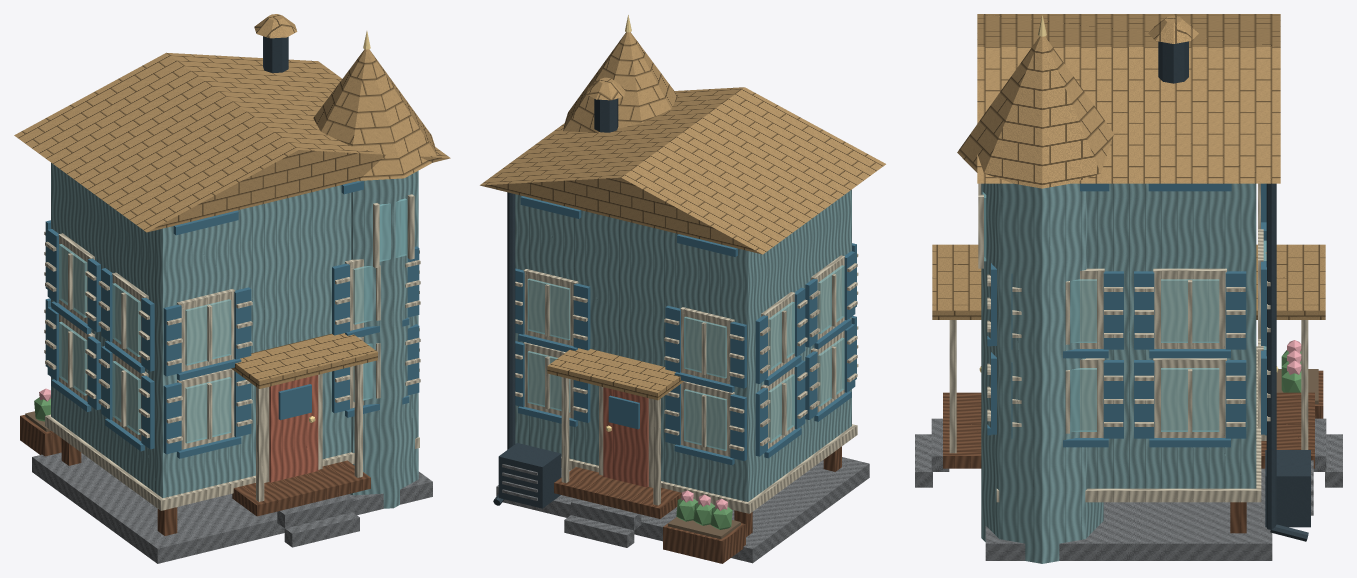
The model's file is house_beach_lv3_tower.glb.
The picture shows the model from 3 angles, left to right: view 1: azimuth 30°, elevation 25°; view 2: azimuth 150°, elevation 25°; view 3: azimuth 270°, elevation 25°; orthographic projection. The views are drawn at different scales.
Visible parts, largest first — view 1: gable_roof, walls, tower, foundation, tower_roof, front_porch_canopy, front_door, front_deck, front_window_frame.002, front_window_frame, floor_trim, front_window_glass (+41 smaller); view 2: walls, gable_roof, foundation, tower_roof, back_porch_canopy, back_door, back_deck, back_window_frame.002, back_ac_unit, back_window_frame.003, back_window_frame, floor_trim (+43 smaller); view 3: gable_roof, tower, walls, tower_roof, foundation, right_window_frame.003, right_window_frame.001, back_porch_canopy, front_porch_canopy, back_downspout, right_window_glass.001, right_window_glass.003 (+26 smaller).
Part boxes in pixels (bbox=[...]): gable_roof: bbox=[14, 52, 450, 232]; walls: bbox=[51, 163, 351, 498]; tower: bbox=[349, 170, 418, 508]; foundation: bbox=[32, 452, 432, 563]; tower_roof: bbox=[313, 49, 436, 180]; front_porch_canopy: bbox=[231, 333, 377, 388]; front_door: bbox=[269, 375, 318, 482]; front_deck: bbox=[232, 460, 370, 516]; front_window_frame.002: bbox=[177, 289, 235, 371]; front_window_frame: bbox=[177, 368, 234, 449]; floor_trim: bbox=[45, 414, 419, 510]; front_window_glass: bbox=[185, 377, 231, 443]; walls: bbox=[515, 189, 851, 501]; gable_roof: bbox=[480, 87, 885, 254]; foundation: bbox=[496, 457, 869, 563]; tower_roof: bbox=[563, 32, 678, 132]; back_porch_canopy: bbox=[547, 348, 683, 400]; back_door: bbox=[603, 387, 648, 487]; back_deck: bbox=[554, 467, 681, 518]; back_window_frame.002: bbox=[680, 307, 734, 384]; back_ac_unit: bbox=[498, 443, 561, 508]; back_window_frame.003: bbox=[523, 269, 578, 346]; back_window_frame: bbox=[681, 381, 734, 456]; floor_trim: bbox=[561, 424, 857, 513]; gable_roof: bbox=[977, 14, 1280, 183]; tower: bbox=[981, 183, 1103, 563]; walls: bbox=[1087, 183, 1256, 488]; tower_roof: bbox=[957, 36, 1113, 188]; foundation: bbox=[985, 468, 1272, 560]; right_window_frame.003: bbox=[1153, 268, 1226, 348]; right_window_frame.001: bbox=[1153, 358, 1226, 437]; back_porch_canopy: bbox=[1256, 244, 1325, 319]; front_porch_canopy: bbox=[932, 244, 981, 319]; back_downspout: bbox=[1266, 183, 1276, 529]; right_window_glass.001: bbox=[1161, 368, 1219, 431]; right_window_glass.003: bbox=[1161, 279, 1219, 342].
Bounding box in the file's own units: 3.25 × 4.54 × 3.36.
Materials: 13 (7 with a texture image).
